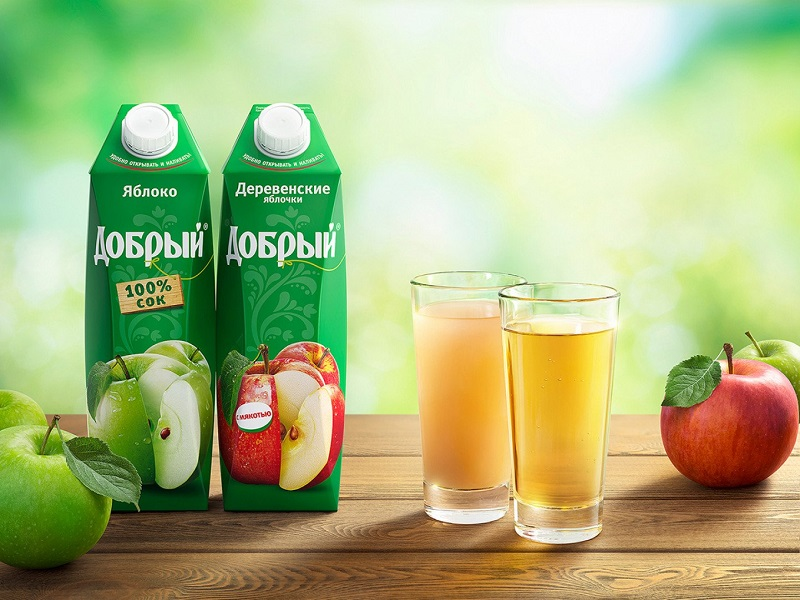juice: (83, 97, 232, 524), (217, 100, 356, 529)
